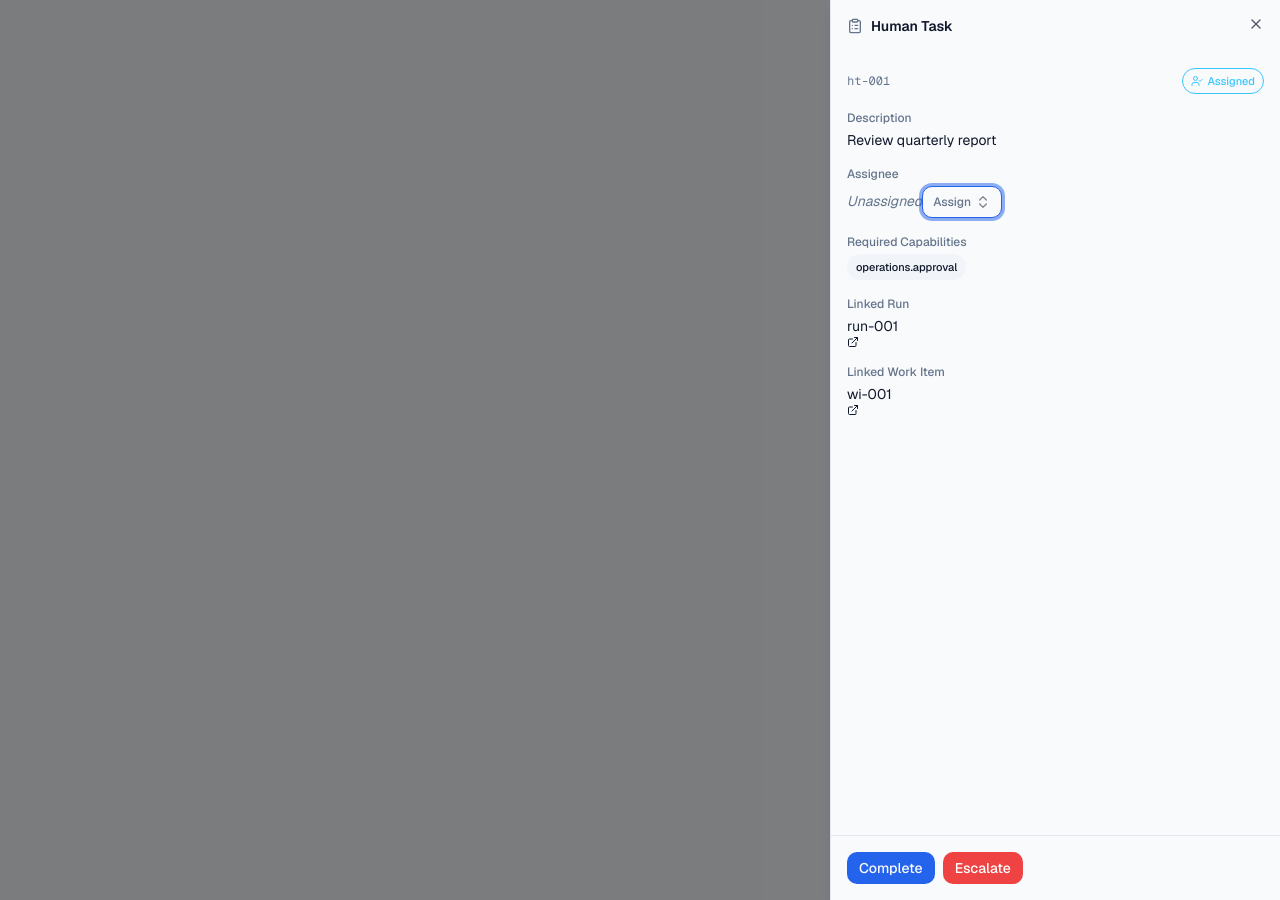
HumanTaskDrawer › shows escalate form on Escalate click
The image size is (1280, 900).
Click the button "Escalate" at (983, 868), box [943,852,1023,884]
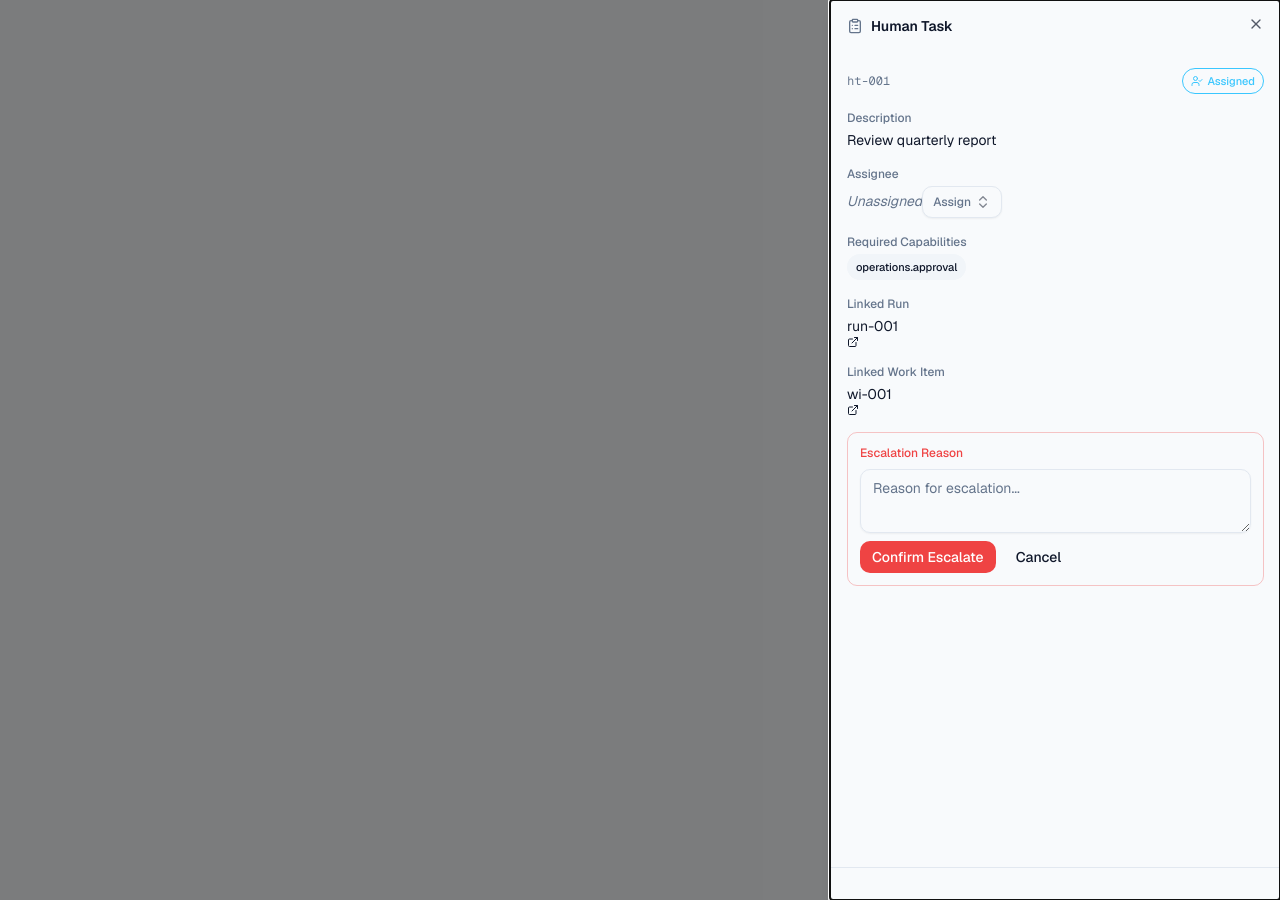
Check: the button "Confirm Escalate" is shown, box [860,541,996,573]
